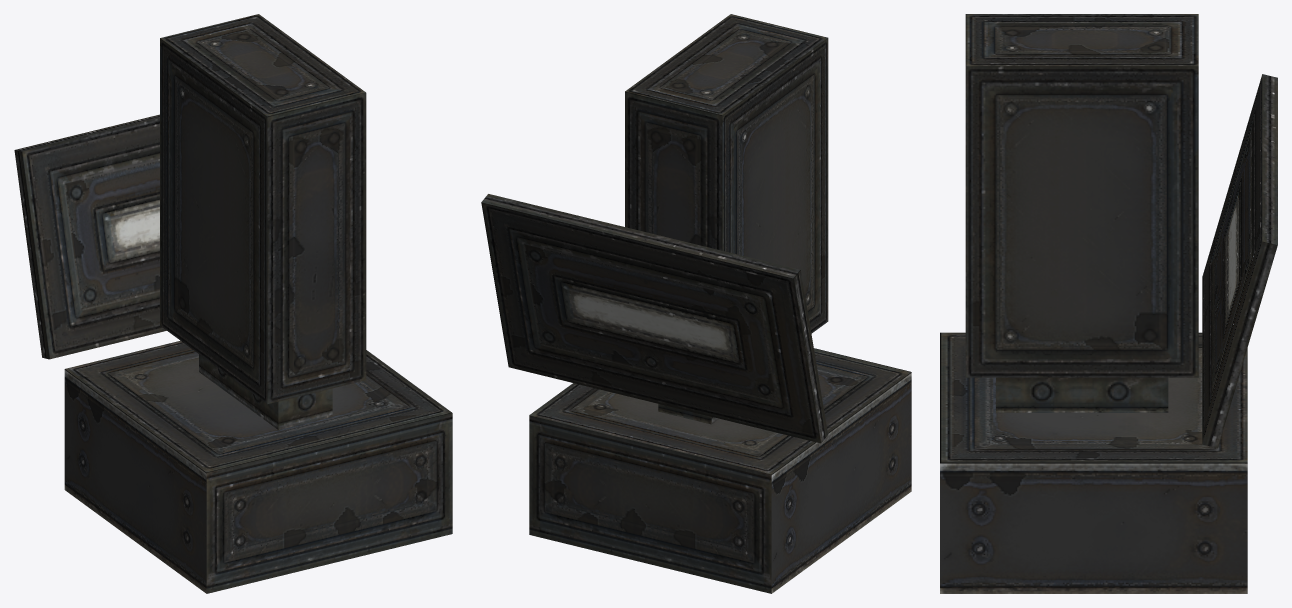
The model's file is MOBILE_TURRET_PACK_1_ROCKETLAUNCHER_PART2.FBX.
The picture shows the model from 3 angles, left to right: view 1: azimuth 30°, elevation 25°; view 2: azimuth 150°, elevation 25°; view 3: azimuth 270°, elevation 25°; orthographic projection. The views are drawn at different scales.
Visible parts, largest first — view 1: Turret_Rocket_Launcher; view 2: Turret_Rocket_Launcher; view 3: Turret_Rocket_Launcher.
Part boxes in pixels (left/top/right/bottom): Turret_Rocket_Launcher: left=14, top=14, right=452, bottom=593; Turret_Rocket_Launcher: left=481, top=14, right=911, bottom=593; Turret_Rocket_Launcher: left=940, top=14, right=1277, bottom=593.
Size of the model in its own units: 32.7 by 44.47 by 27.87.
